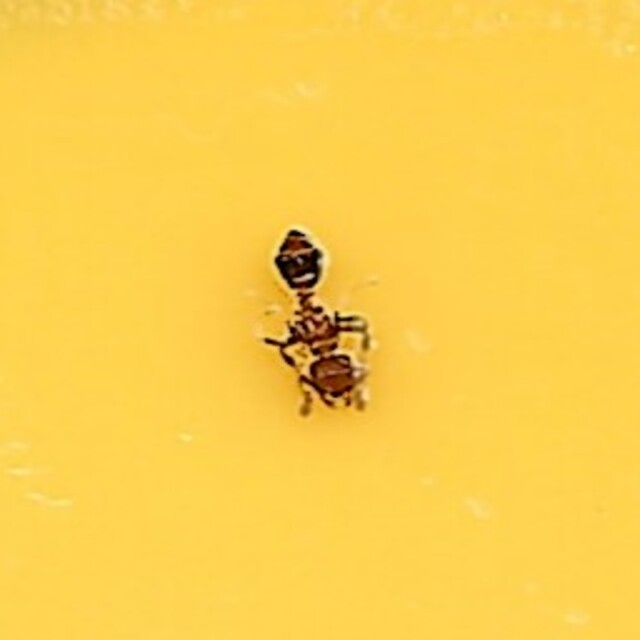Hymenoptera: (250, 207, 390, 433)
